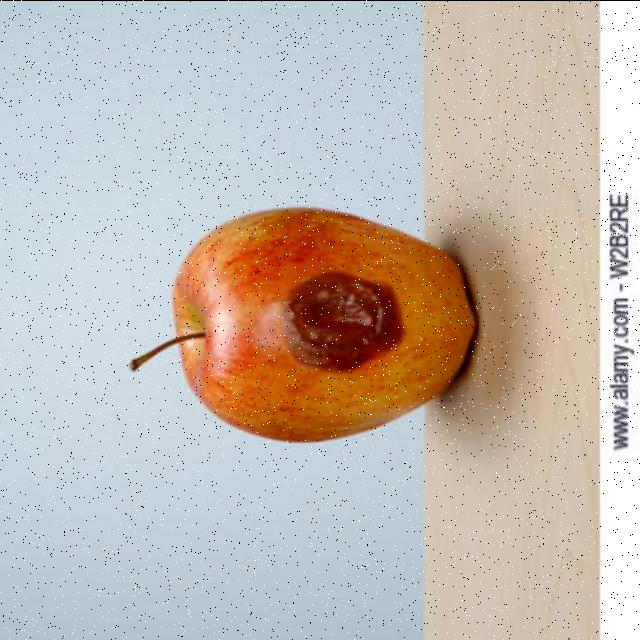ROT: (136, 192, 472, 444)
